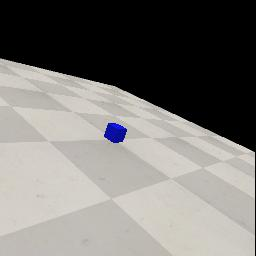box: (104, 123, 127, 143)
